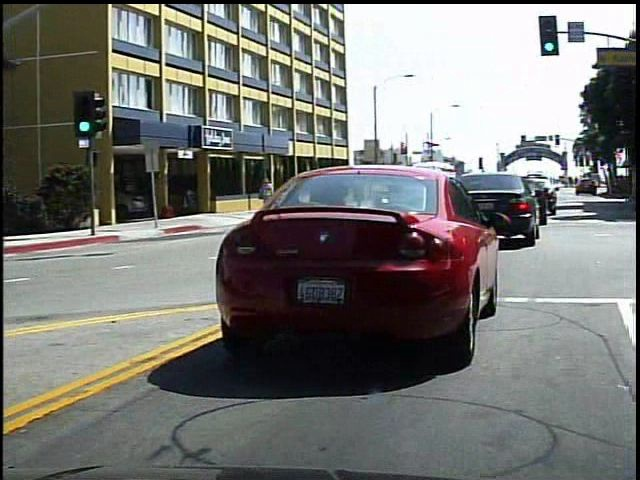person: (259, 175, 279, 209)
